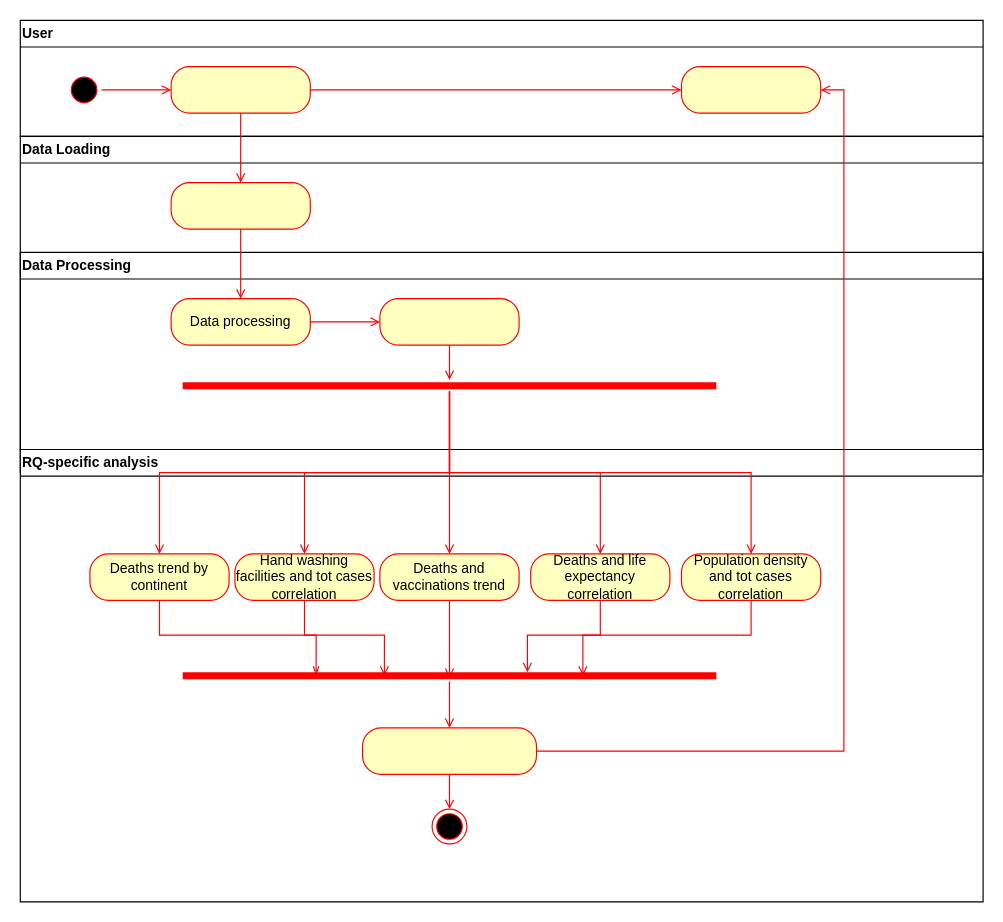
The diagram is 1003 pixels wide and 922 high, and some of its shapes have lost their labels. The shapes that lost their labels are listed below. From the top down, each one's centre as x and y in pixels, then its label:
At (x=240, y=89): "Launch the analysis from CLI".
At (x=750, y=89): "Visualize results".
At (x=240, y=205): "Load data and filter columns".
At (x=449, y=321): "Outcomes utils".
At (x=448, y=750): "Collect results".
